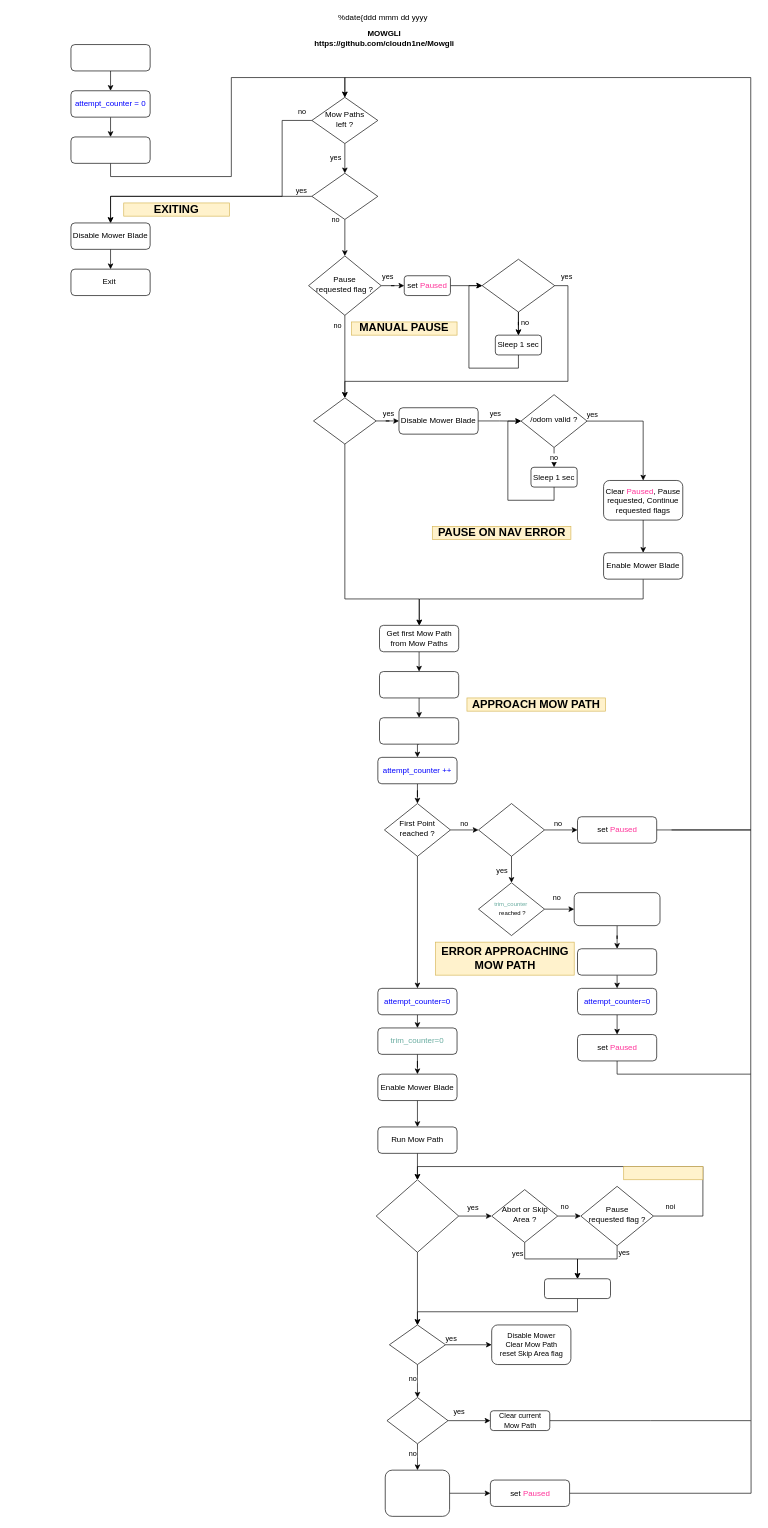
The diagram is 768 pixels wide and 1528 high, and some of its shapes have lost their labels. The centre of each missing label's shape, as x and y in pixels:
"Abort flag ?" belongs at (344,196).
"attempt_counter reached ?" belongs at (511,829).
"Cancel Mow Path" belongs at (577,1288).
"Continue requested flag ?" belongs at (518,285).
"Entering Mowing Behaviour" belongs at (110,57).
"Goto First Point (of Mow Path)" belongs at (419,684).
"Mow Path Active or Pending ?" belongs at (417,1215).
"Mow Path completed ?" belongs at (417,1420).
"MOWING" belongs at (663,1173).
"Paused ?" belongs at (344,420).
"Skip Area ?" belongs at (417,1344).
"skip to next point in mow path (new first point)" belongs at (617,909).
"Trim Mow Path (remove already completed points or at a minimum 1)" belongs at (417,1492).
"trim_counter = 0" belongs at (110,149).
"trim_counter++" belongs at (617,961).
"Wait for result" belongs at (419,730).
